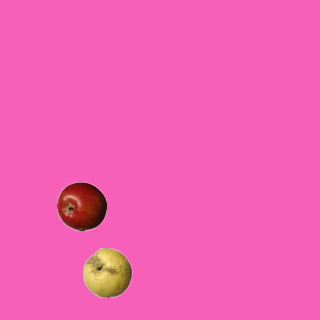Apple Braeburn: (56, 181, 106, 231)
Apple Golden 1: (82, 247, 132, 297)
